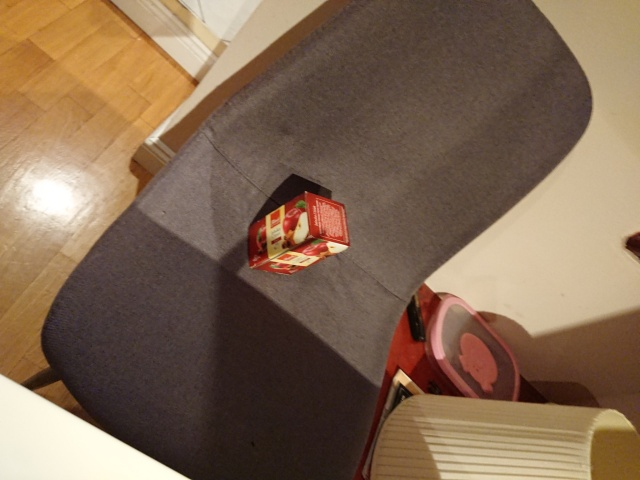Franck Apple Cinnamon Tea 60g: (244, 188, 353, 279)
